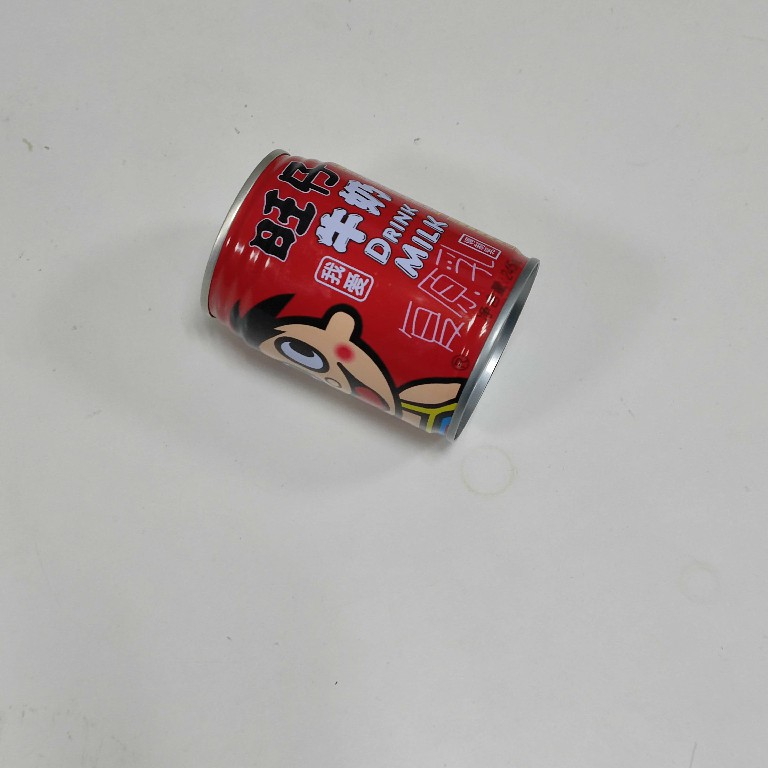can: (194, 145, 542, 451)
